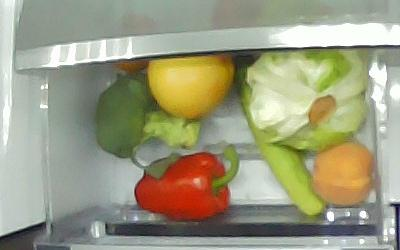broccoli: (93, 73, 200, 158)
cucumber: (229, 55, 329, 215)
grapefruit: (147, 49, 236, 117)
lettuce: (245, 47, 367, 150)
paprika: (133, 146, 239, 221)
peach: (313, 139, 372, 205)
